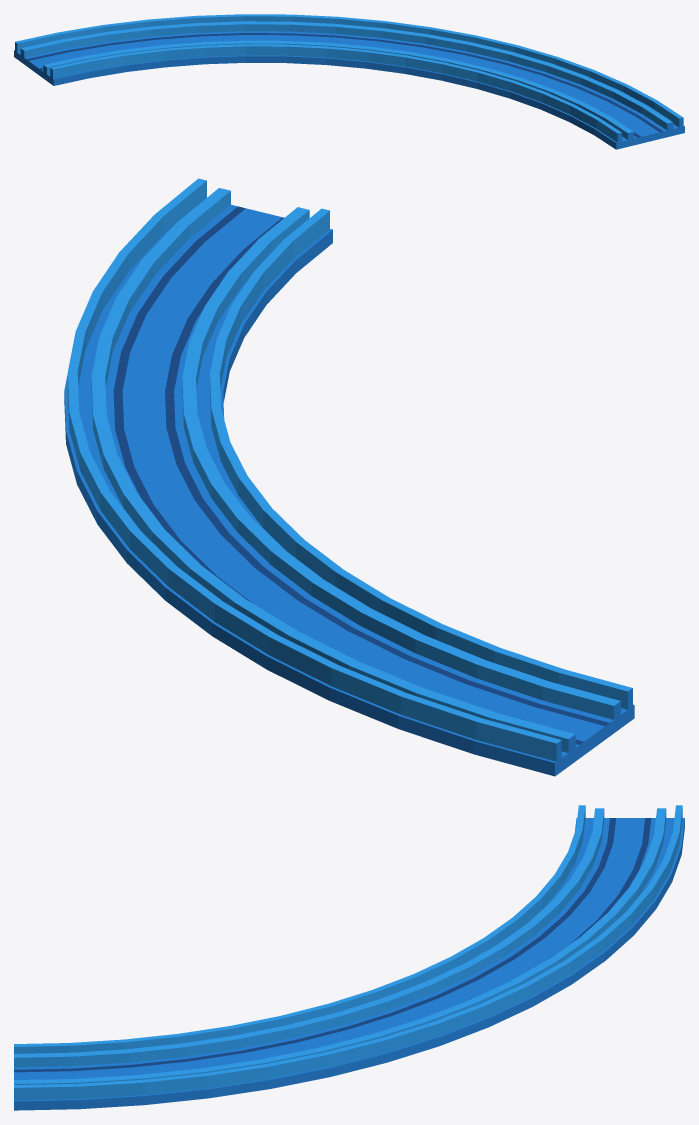
The model's file is Track_Curve_Left_90.fbx.
3 renders of one model, top to bottom at view 1: azimuth 30°, elevation 25°; view 2: azimuth 150°, elevation 25°; view 3: azimuth 270°, elevation 25°, orthographic. The views are drawn at different scales.
Visible parts, largest first — view 1: Molded blue rail; view 2: Molded blue rail; view 3: Molded blue rail.
Part boxes in pixels (x1,y1,x2,y2): Molded blue rail: [14, 14, 684, 149]; Molded blue rail: [64, 178, 634, 776]; Molded blue rail: [14, 805, 684, 1110].
Bounding box in the file's own units: 653 × 23.21 × 653.
